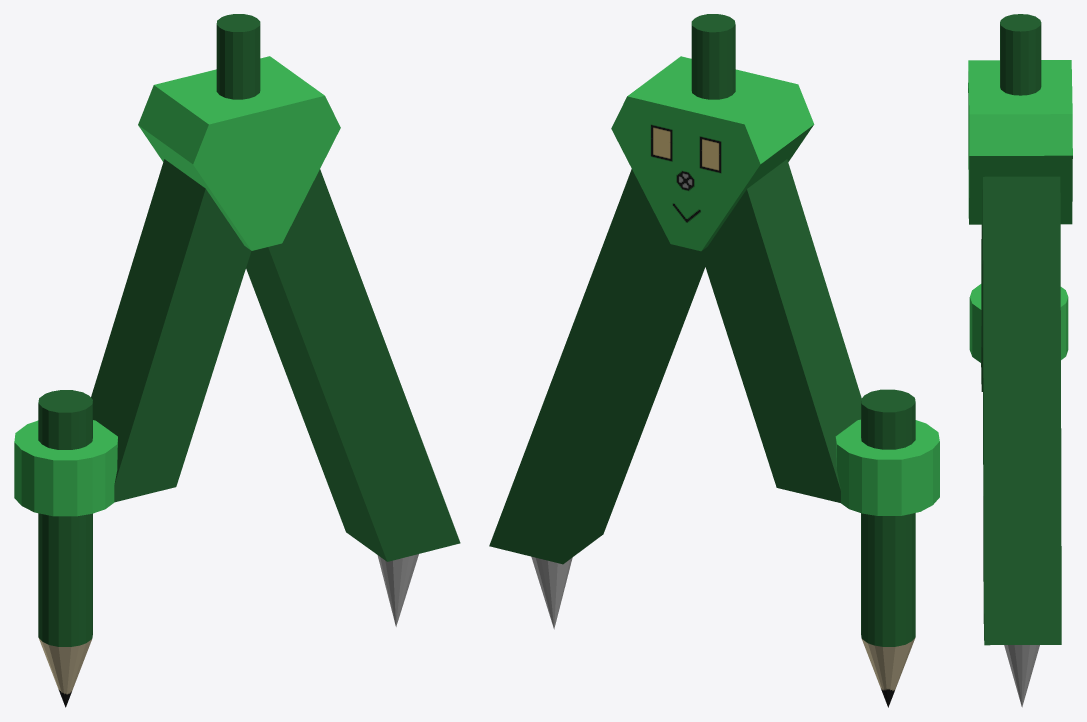
The model's file is compass.obj.
The picture shows the model from 3 angles, left to right: view 1: azimuth 30°, elevation 25°; view 2: azimuth 150°, elevation 25°; view 3: azimuth 270°, elevation 25°; orthographic projection. The views are drawn at different scales.
Parts seen in each view (by area): view 1: 立方体; view 2: 立方体; view 3: 立方体.
Part boxes in pixels (bbox=[...]): 立方体: bbox=[14, 14, 460, 707]; 立方体: bbox=[489, 14, 939, 707]; 立方体: bbox=[968, 14, 1072, 707].
Bounding box in the file's own units: 1.79 × 2.61 × 0.4052.
Materials: 1 (1 with a texture image).
